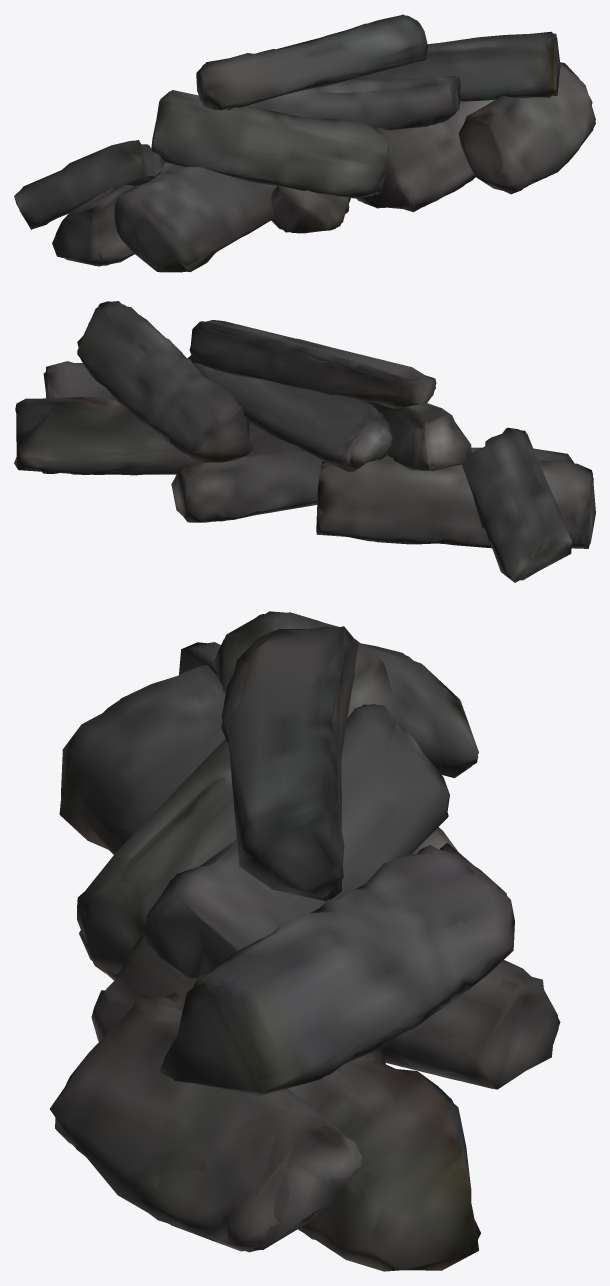
The model's file is SM_Fireplace_03e_0b8275.glb.
3 renders of one model, top to bottom at view 1: azimuth 30°, elevation 25°; view 2: azimuth 150°, elevation 25°; view 3: azimuth 270°, elevation 25°, orthographic. The views are drawn at different scales.
Bounding box in the file's own units: 0.6804 × 0.1858 × 0.2767.
1 material, 1 textured.
